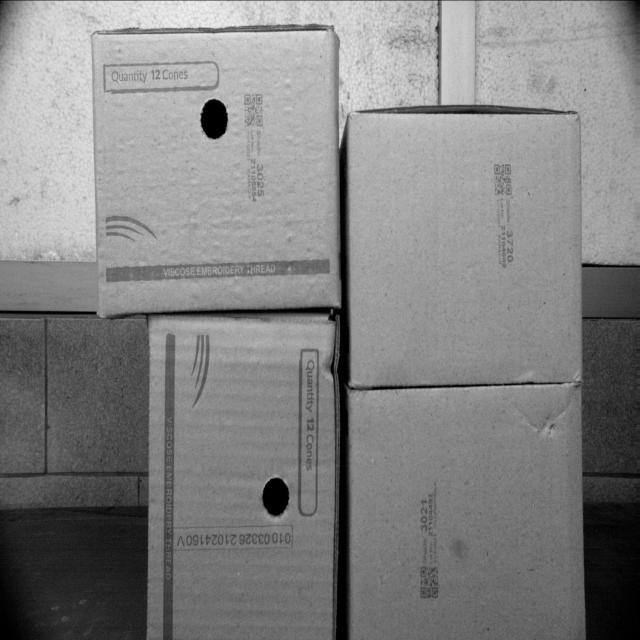cardboxes: (96, 26, 341, 321), (352, 106, 583, 393), (344, 383, 583, 639), (145, 324, 339, 639)
